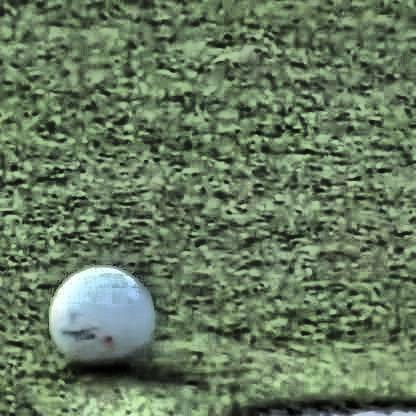golfball: (46, 265, 152, 367)
